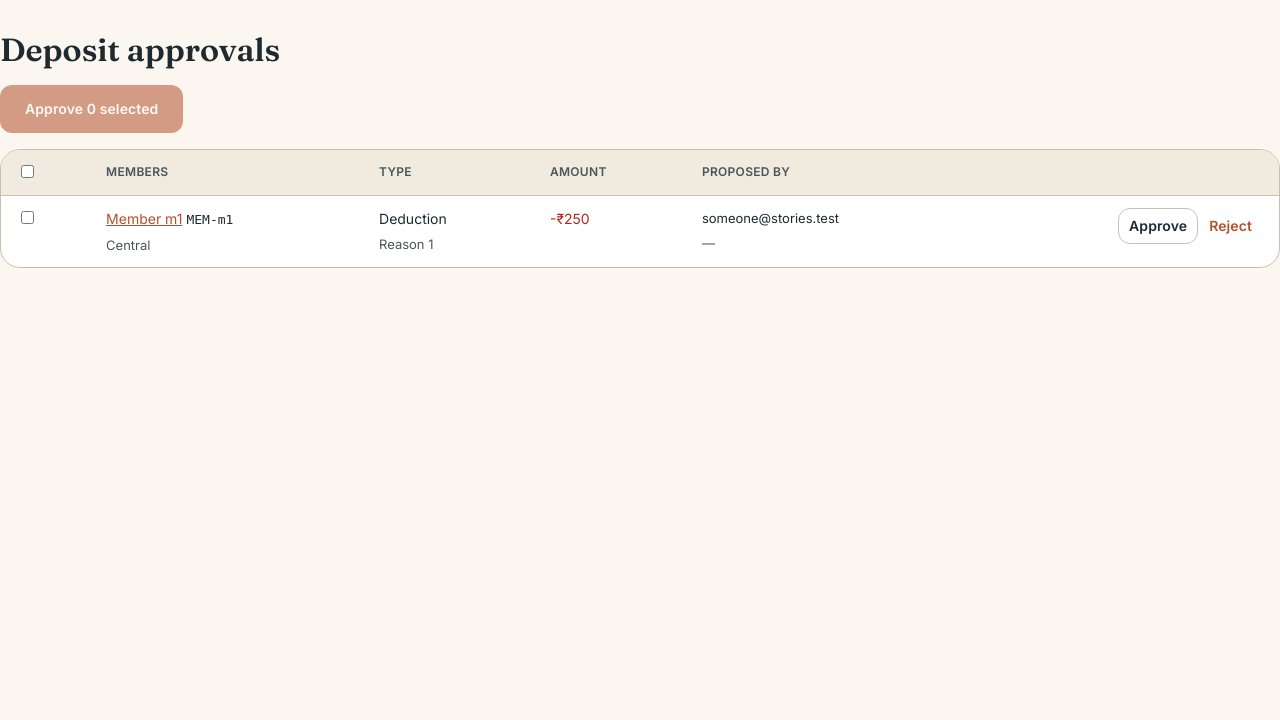
Test: deciding one adjustment › sends the note when one is typed
Expected: the heading "Deposit approvals" is shown, [0,30,280,69]
Step 1. Click the button "Approve" → x=1158, y=226, box [1118,208,1198,244]
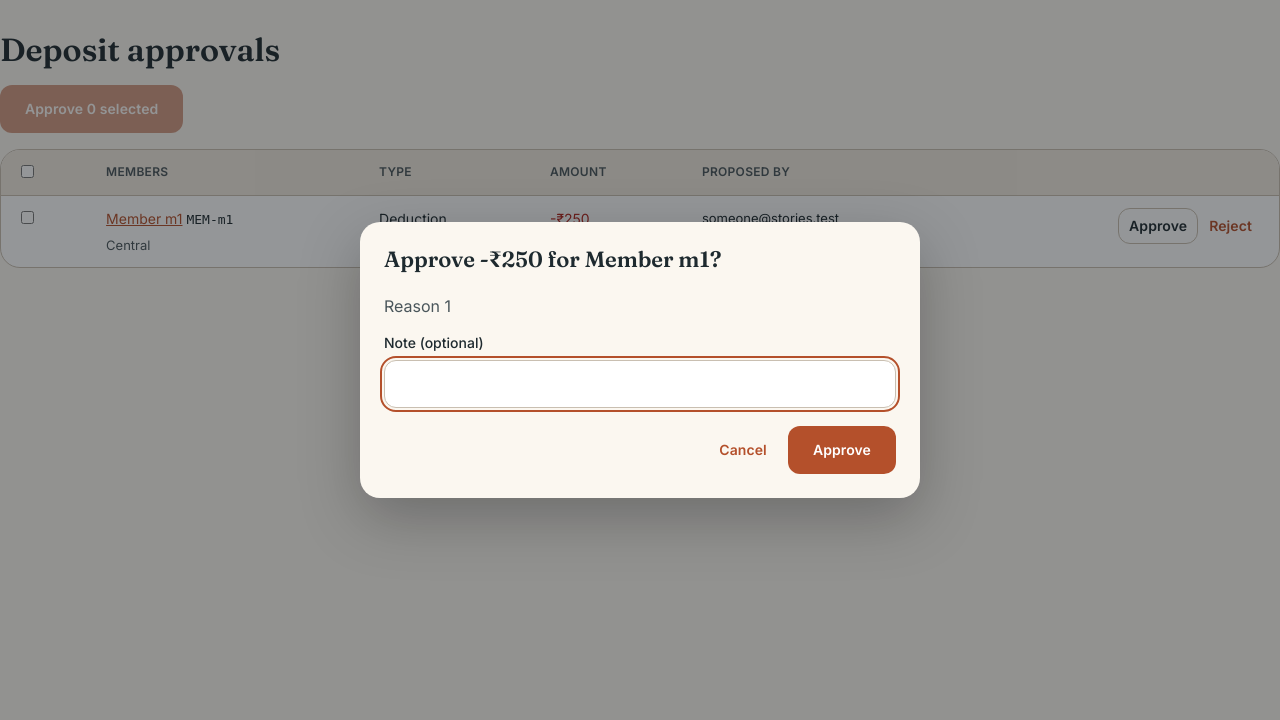
Step 2. Type " Seen the book " into the field labelled "Note (optional)" → x=640, y=384, box [384,360,896,408]
Then press Enter
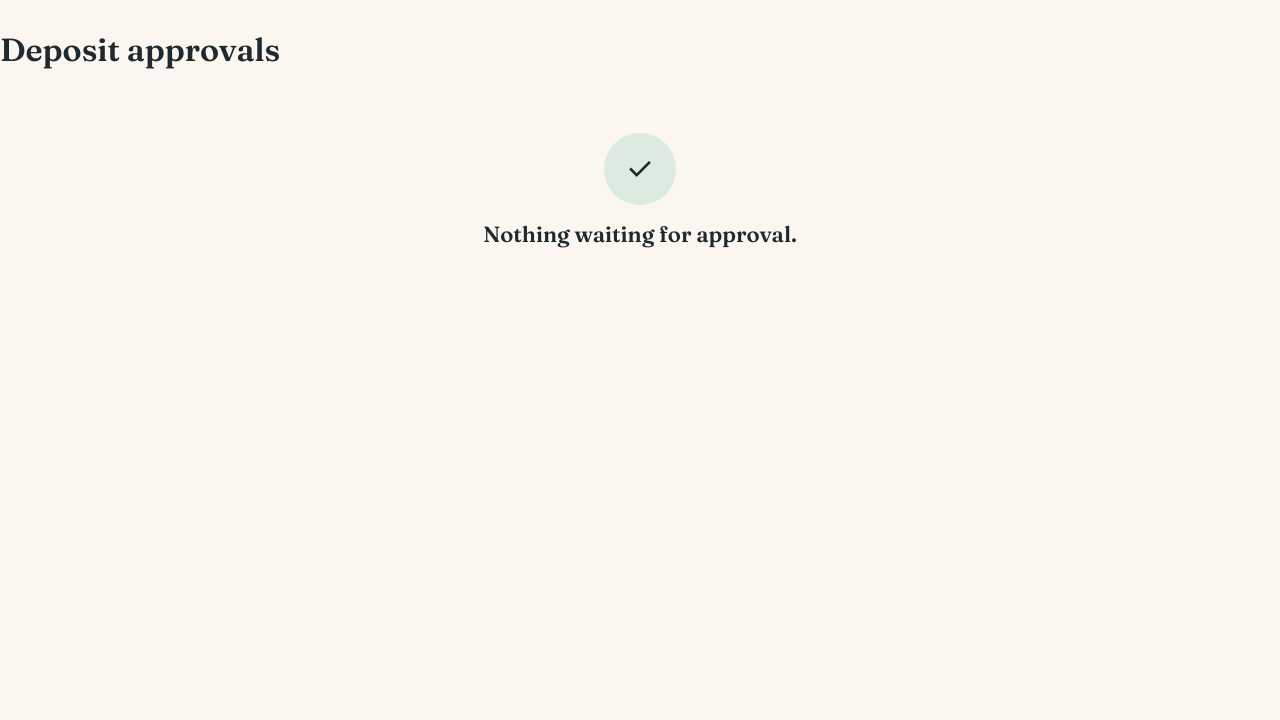
Result: the heading "Nothing waiting for approval." is shown at [483,221,797,248]
